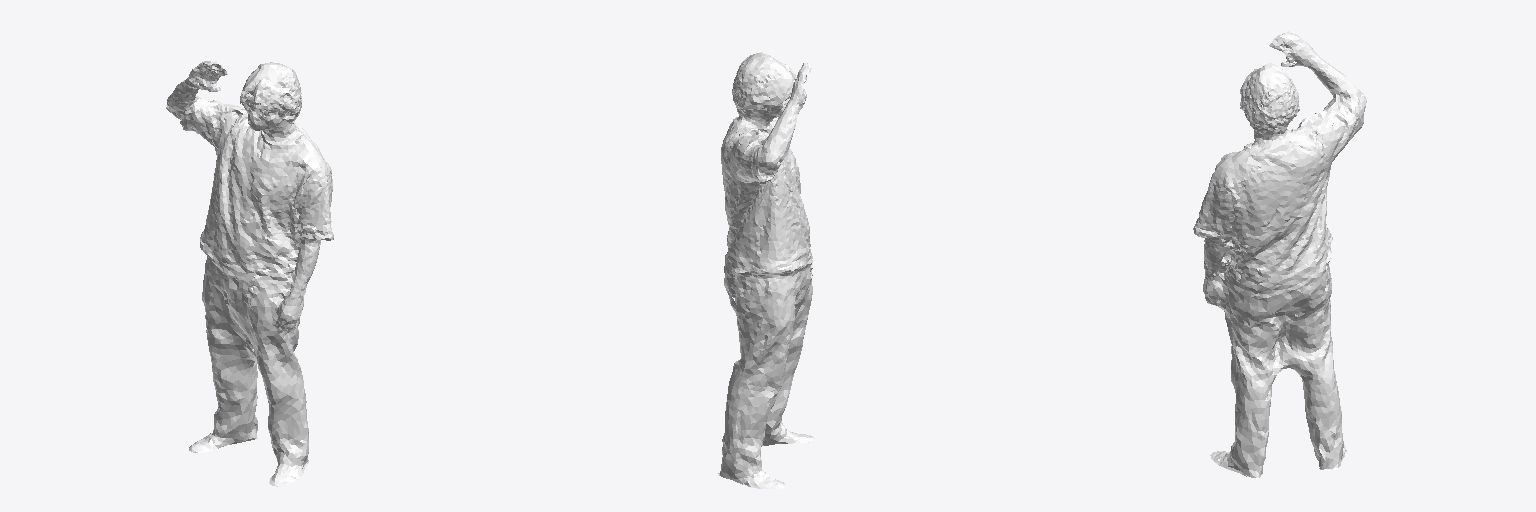
The model's file is clarence.obj.
3 views of the same model, side by side, from view 1: azimuth 30°, elevation 25°; view 2: azimuth 150°, elevation 25°; view 3: azimuth 270°, elevation 25° (orthographic).
Size of the model in its own units: 0.4656 by 1.73 by 0.6728.